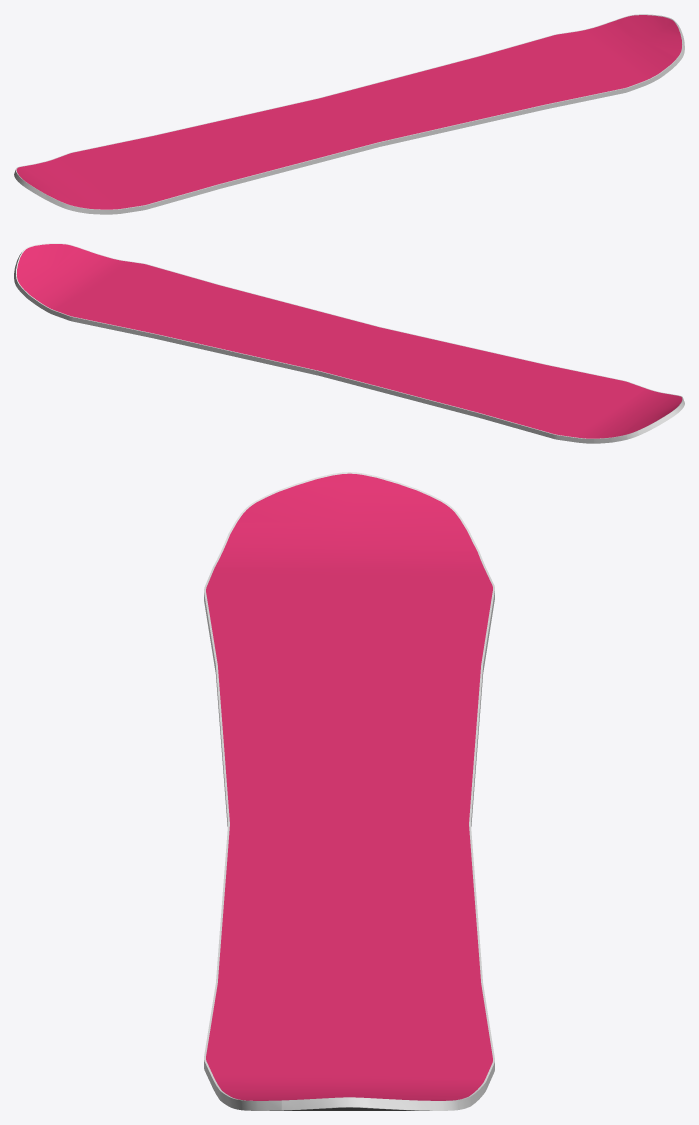
Rendered from board_twin-tip-2_zero.gltf.
3 renders of one model, top to bottom at view 1: azimuth 30°, elevation 25°; view 2: azimuth 150°, elevation 25°; view 3: azimuth 270°, elevation 25°, orthographic. The views are drawn at different scales.
Visible parts, largest first — view 1: board-top, board-edge; view 2: board-top, board-edge; view 3: board-top, board-edge.
Boxes of the visible parts, x1=… form: board-top: x1=16, y1=15, x2=681, y2=209; board-edge: x1=14, y1=14, x2=684, y2=214; board-top: x1=16, y1=244, x2=682, y2=438; board-edge: x1=14, y1=243, x2=684, y2=443; board-top: x1=206, y1=473, x2=492, y2=1100; board-edge: x1=204, y1=472, x2=494, y2=1110.
Bounding box in the file's own units: 1.51 × 0.0576 × 0.2923.
